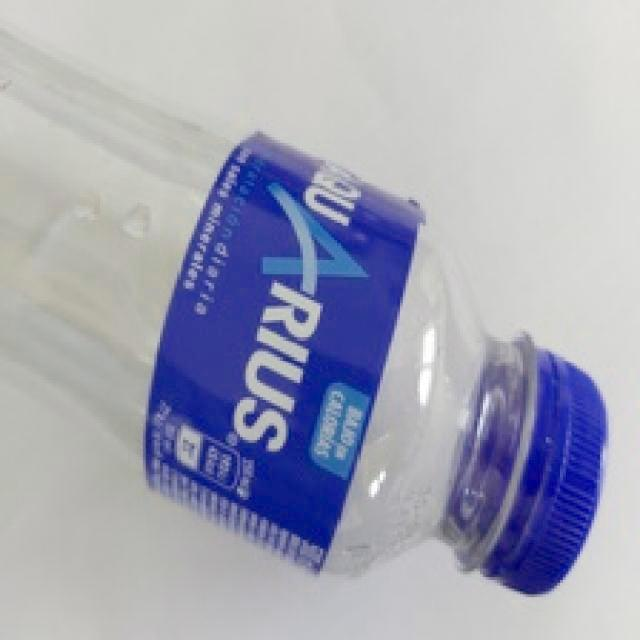bottle: (1, 28, 610, 598)
